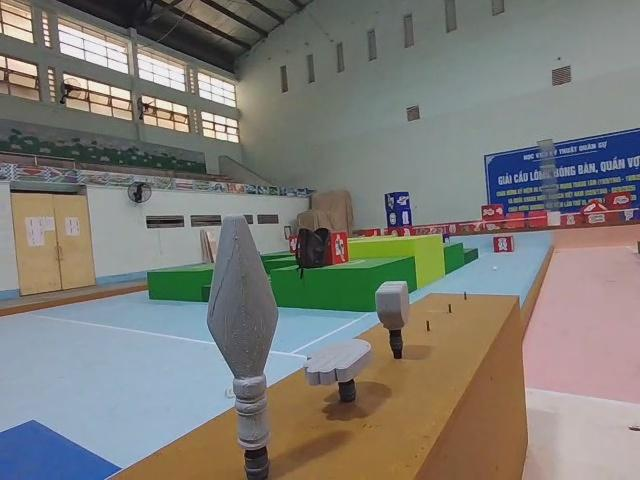Fist: (375, 278, 413, 360)
Hand: (305, 335, 373, 406)
Sph: (211, 210, 287, 477)
